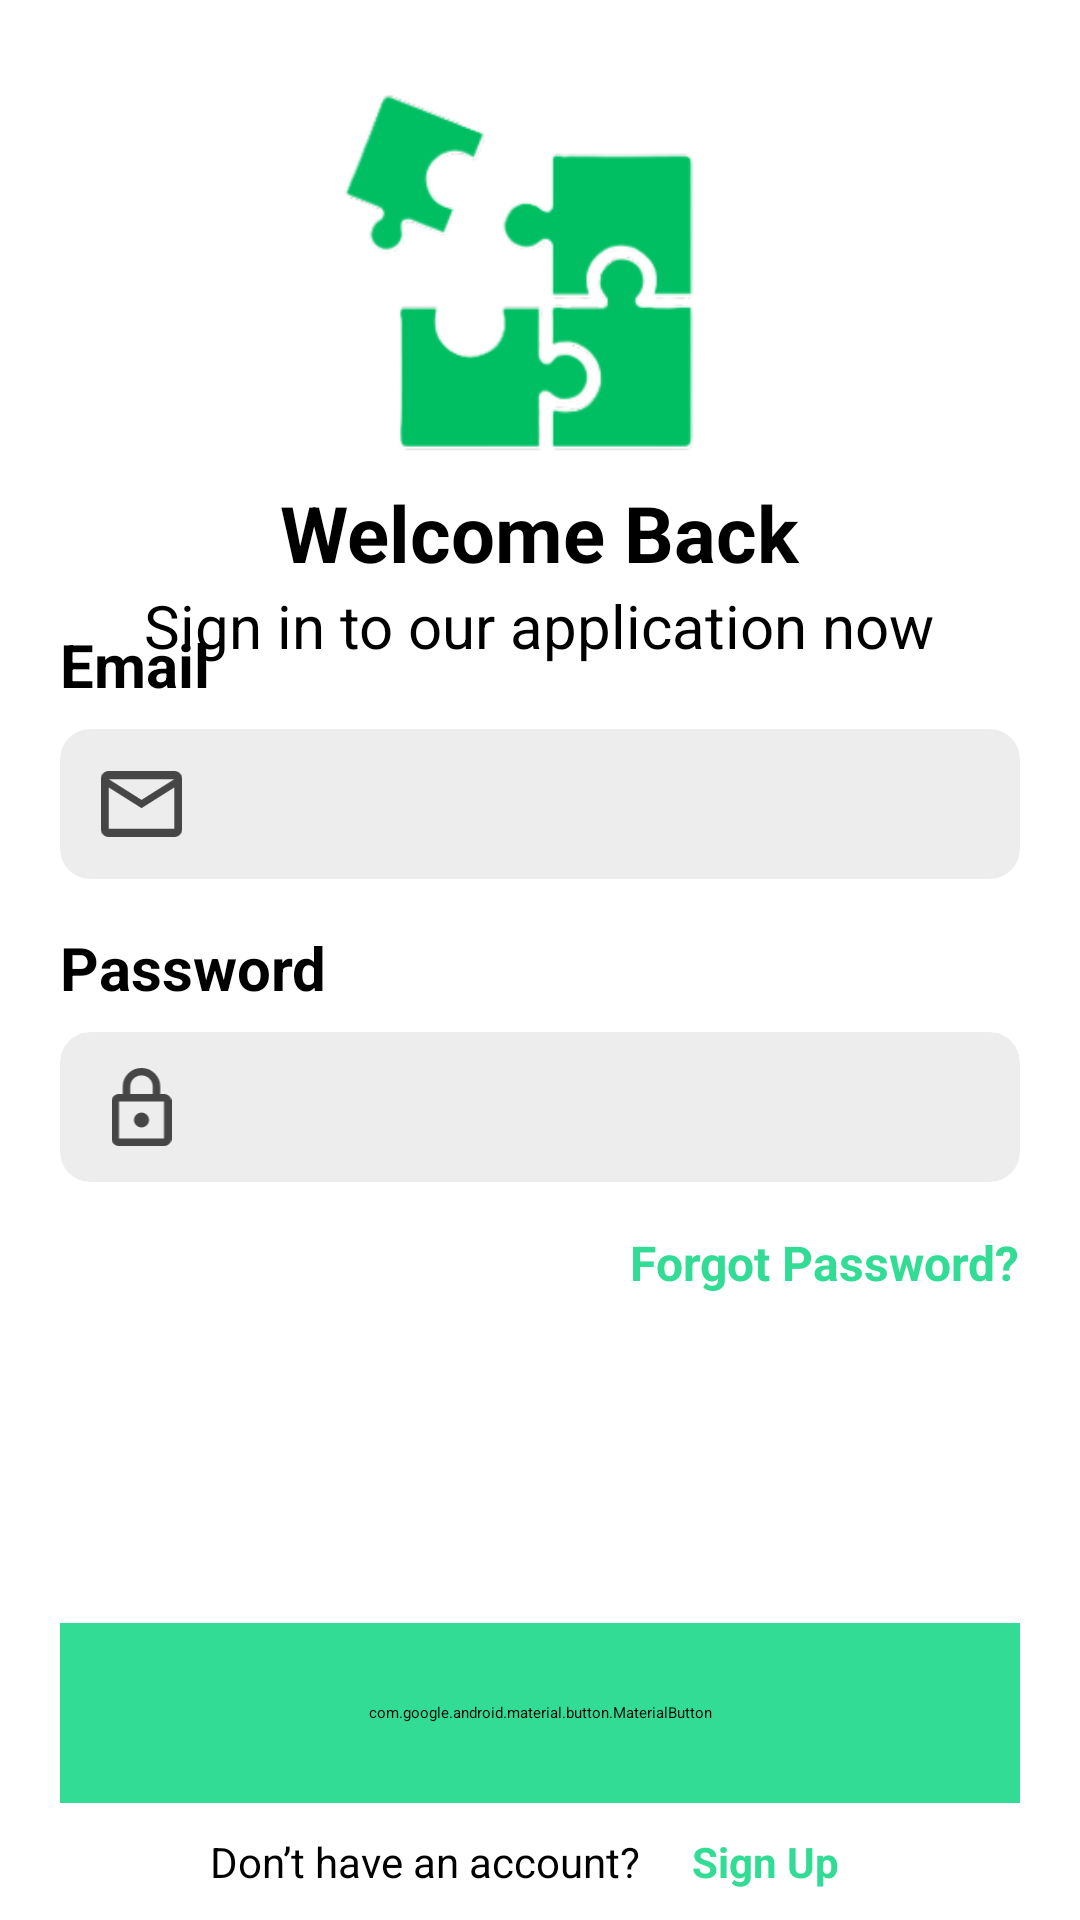

Screen size 1080*1920. Icon name, then its box in pixels as (x1, y1, x2, y2):
lock: (112, 1068, 172, 1146)
